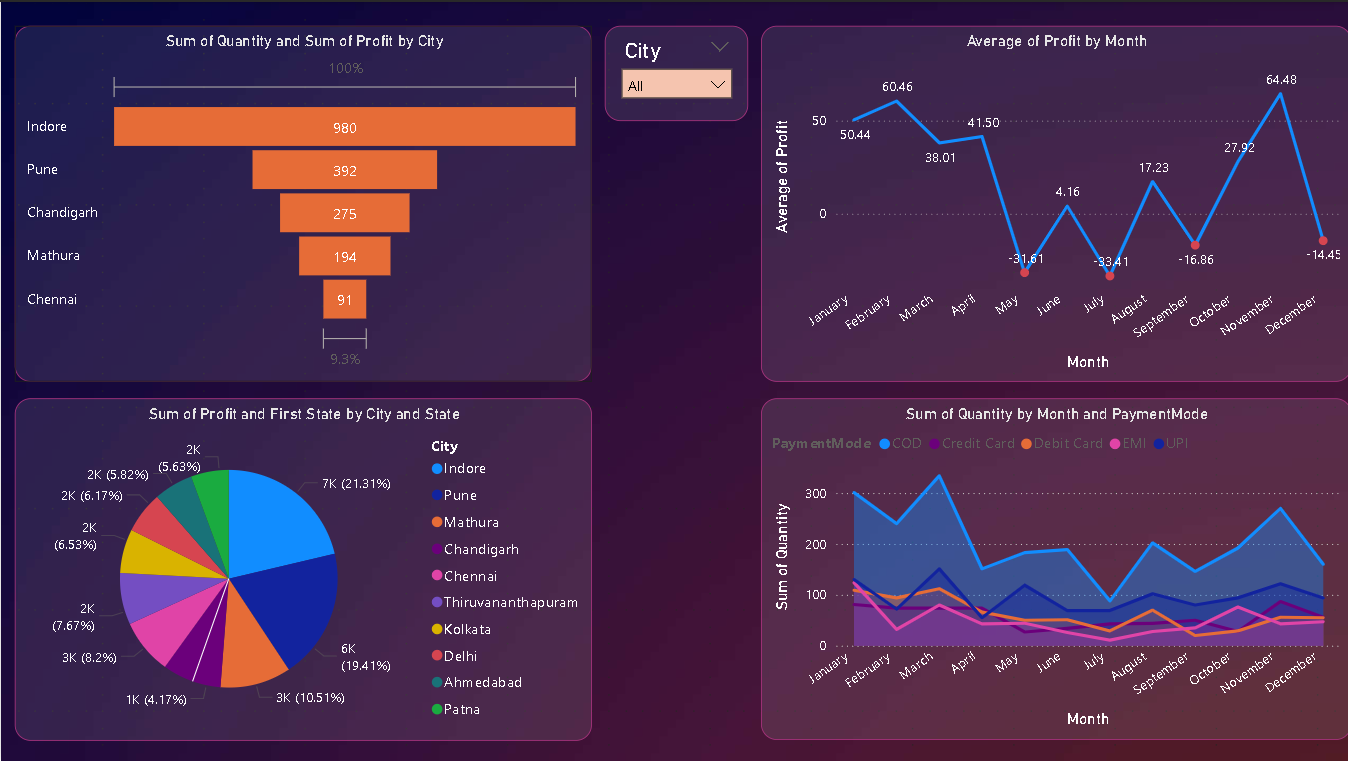

The dashboard page shown, as its layout file describes it:
{"tool":"powerbi","page":{"name":"Page 2","canvas":[1280,720],"ordinal":1},"visuals":[{"type":"funnel","fields":{"Y":["Sum(Details.Quantity)"],"Category":["Orders.City"]},"box":[12.5,22.5,547.5,337.5],"z":0},{"type":"lineChart","fields":{"Y":["Avg(Details.Profit)"],"Category":["Orders.Order Date.Variation.Date Hierarchy.Month"]},"box":[720,22.5,560,337.5],"z":1000},{"type":"pieChart","fields":{"Category":["Orders.City"],"Y":["Sum(Details.Profit)"],"Series":["Orders.State"]},"box":[12.5,376.2,547.5,325],"z":2000},{"type":"areaChart","fields":{"Y":["Sum(Details.Quantity)"],"Category":["Orders.Order Date.Variation.Date Hierarchy.Month"],"Series":["Details.PaymentMode"]},"box":[720,376.2,560,323.8],"z":3000},{"type":"slicer","fields":{"Values":["Orders.City"]},"box":[572.5,22.5,136.2,90],"z":4000}]}

Visuals, with their boxes in screenshot pixels (x1, y1, x2, y2), scaled from the page's 1280x720 canvas onto the 1348x761 screenshot:
funnel - Sum(Details.Quantity) x Orders.City: detection(13, 24, 590, 380)
lineChart - Avg(Details.Profit) x Orders.Order Date.Variation.Date Hierarchy.Month: detection(758, 24, 1347, 380)
pieChart - Orders.City x Sum(Details.Profit): detection(13, 398, 590, 741)
areaChart - Sum(Details.Quantity) x Orders.Order Date.Variation.Date Hierarchy.Month: detection(758, 398, 1347, 740)
slicer - Orders.City: detection(603, 24, 746, 119)
